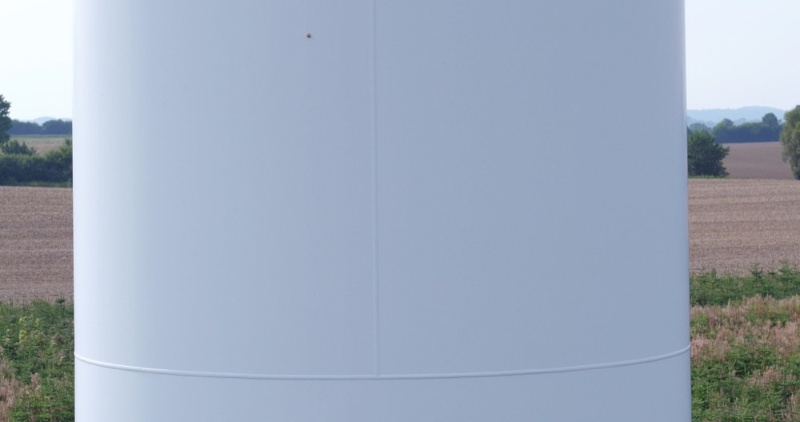weldseam: (68, 344, 696, 384), (358, 1, 387, 386)
